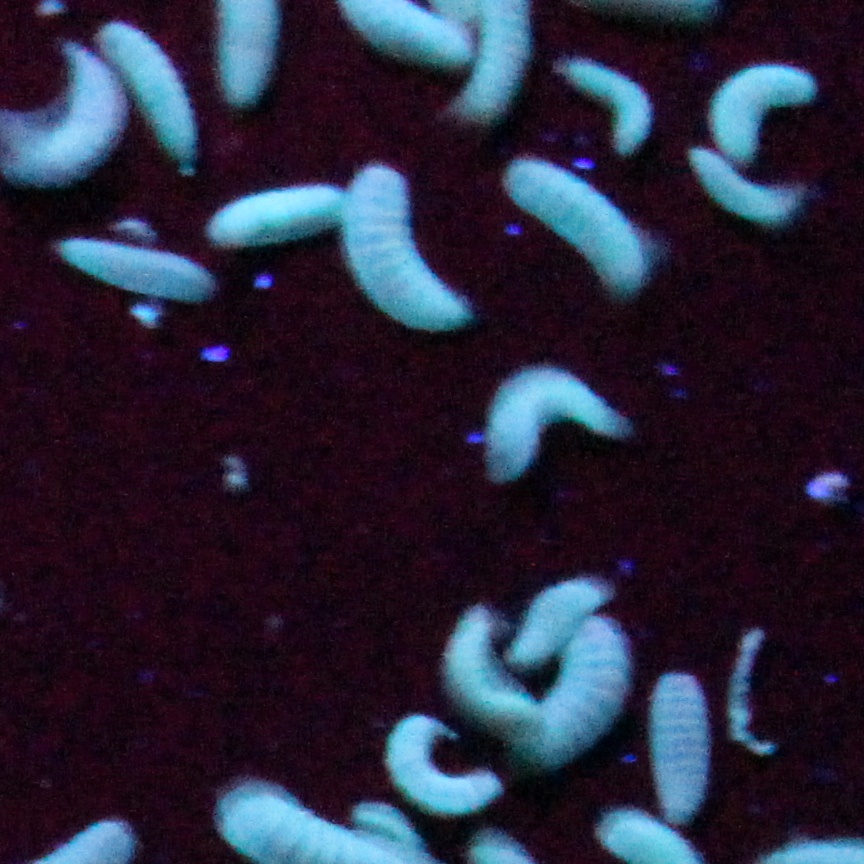larve: (494, 154, 647, 301), (349, 156, 463, 332), (468, 368, 641, 469), (534, 611, 623, 766), (0, 59, 115, 176), (704, 48, 824, 156), (98, 25, 190, 160), (384, 705, 494, 817), (435, 606, 534, 730), (57, 232, 209, 305), (683, 144, 815, 228), (645, 658, 708, 822), (562, 45, 658, 149), (204, 181, 343, 244), (517, 567, 592, 662)
